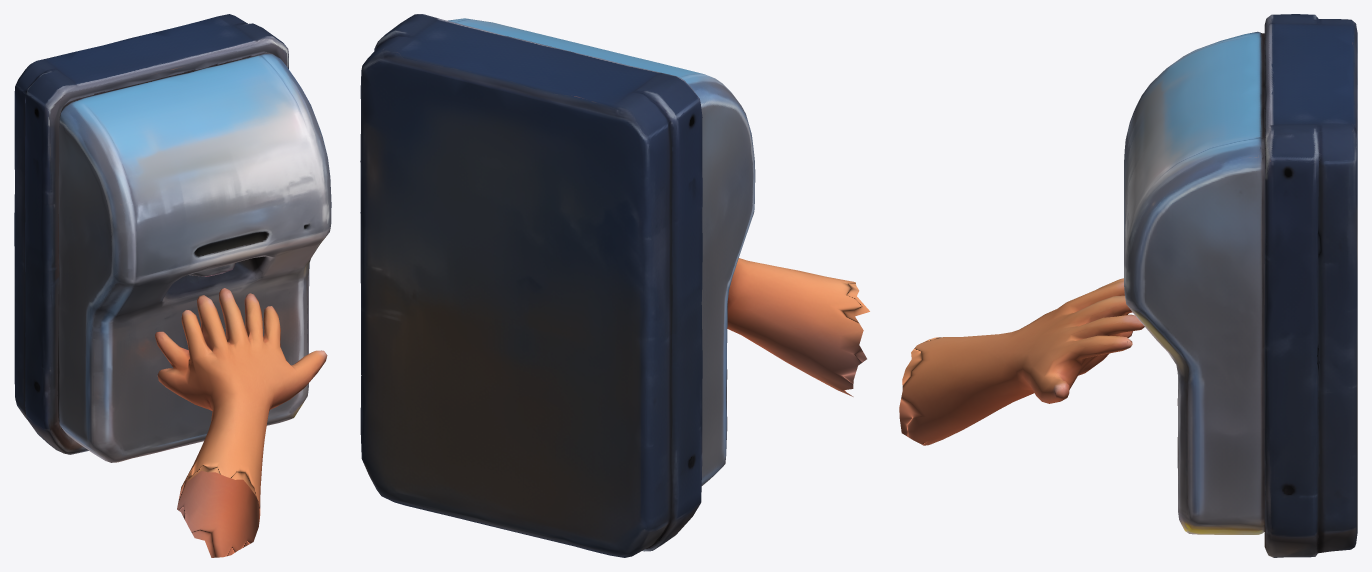
File: universitytoilet_HandDryer.glb
The picture shows the model from 3 angles, left to right: view 1: azimuth 30°, elevation 25°; view 2: azimuth 150°, elevation 25°; view 3: azimuth 270°, elevation 25°; orthographic projection. The views are drawn at different scales.
Parts seen in each view (by area): view 1: world; view 2: world; view 3: world.
Boxes of the visible parts, <box> form: world: <box>14,14,331,557</box>; world: <box>360,14,869,557</box>; world: <box>899,14,1357,557</box>.
Size of the model in its own units: 0.6924 by 1 by 0.9686.
1 material, 1 textured.
